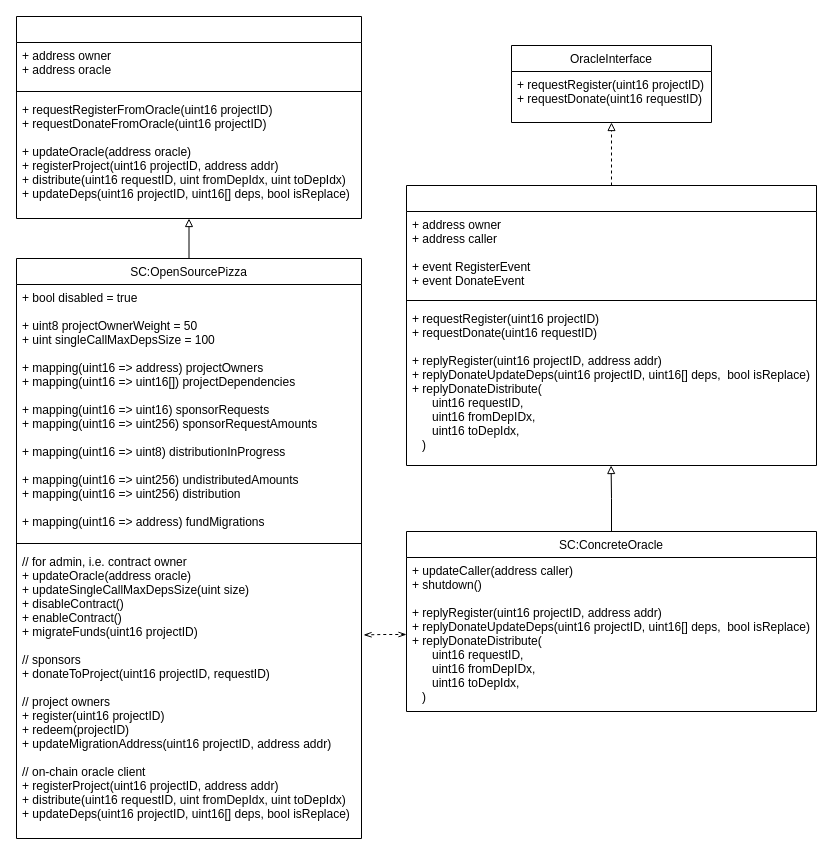
Some shapes in this 833 by 855 pixel diagram are drawn without their labels. Each missing label, with the box of its shape:
SC:Oracle: (406, 184, 816, 466)
SC:OracleClient: (16, 16, 362, 218)
